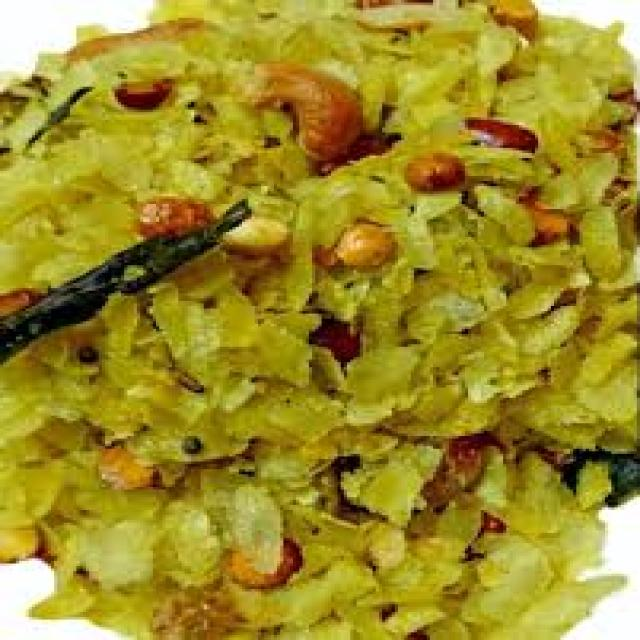POHA: (0, 0, 637, 637)
